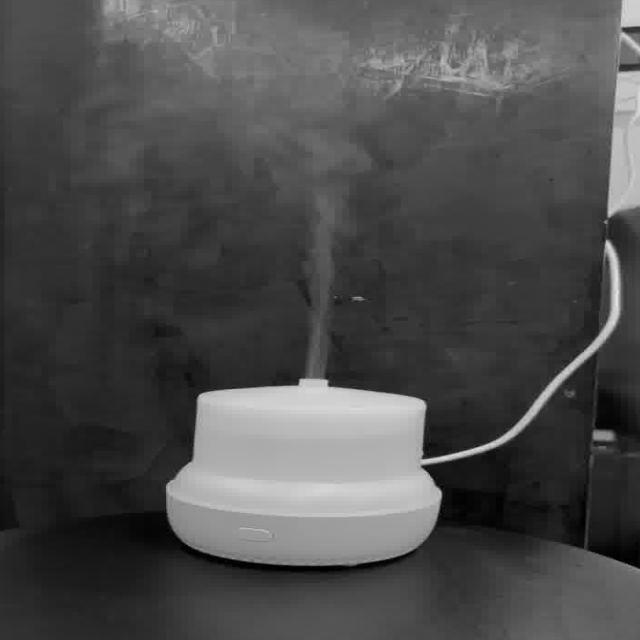fire: (178, 68, 382, 378)
